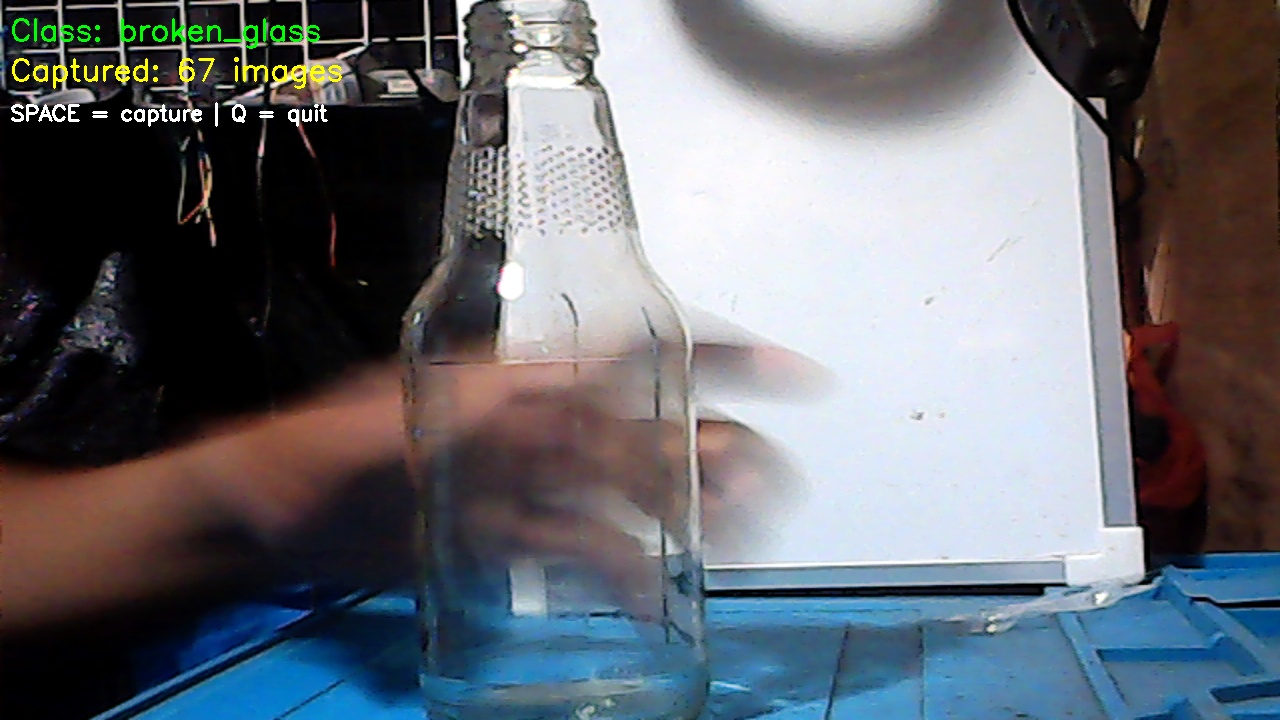broken_glass: (360, 12, 709, 716)
